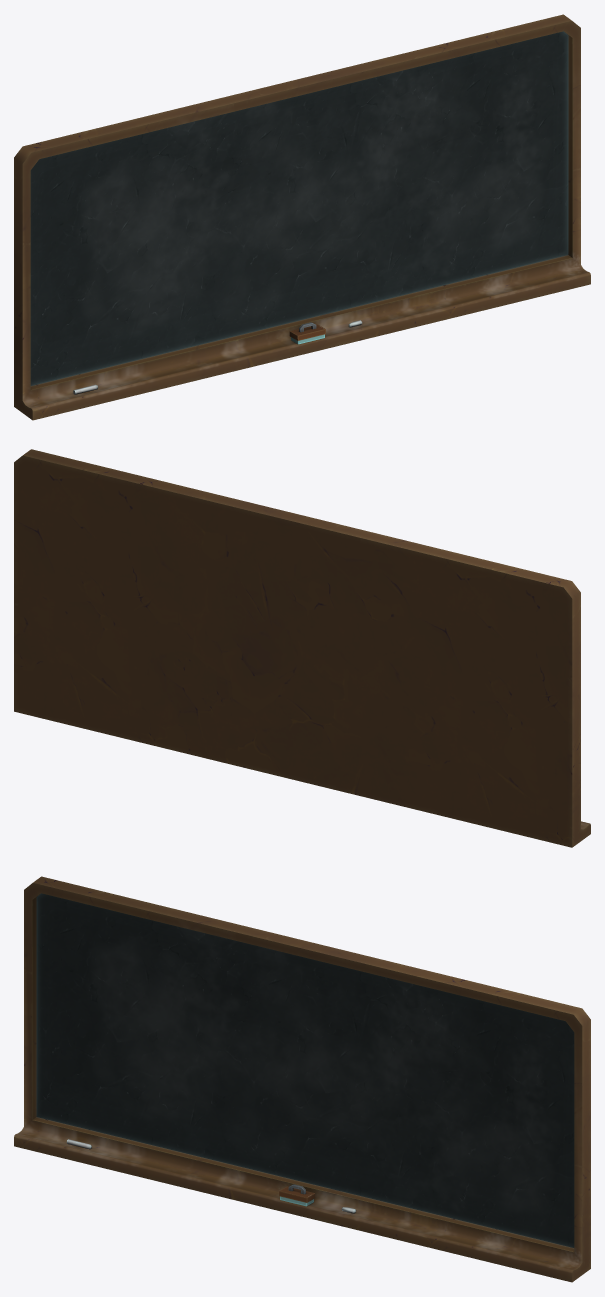
File: chalkboard.obj
3 renders of one model, top to bottom at view 1: azimuth 30°, elevation 25°; view 2: azimuth 150°, elevation 25°; view 3: azimuth 330°, elevation 25°, orthographic.
Parts seen in each view (by area): view 1: chalkboard; view 2: chalkboard; view 3: chalkboard.
Part boxes in pixels (x1,y1,x2,y2): chalkboard: [14, 14, 590, 420]; chalkboard: [14, 449, 590, 847]; chalkboard: [14, 876, 590, 1282].
Size of the model in its own units: 19 by 8.4 by 1.12.
